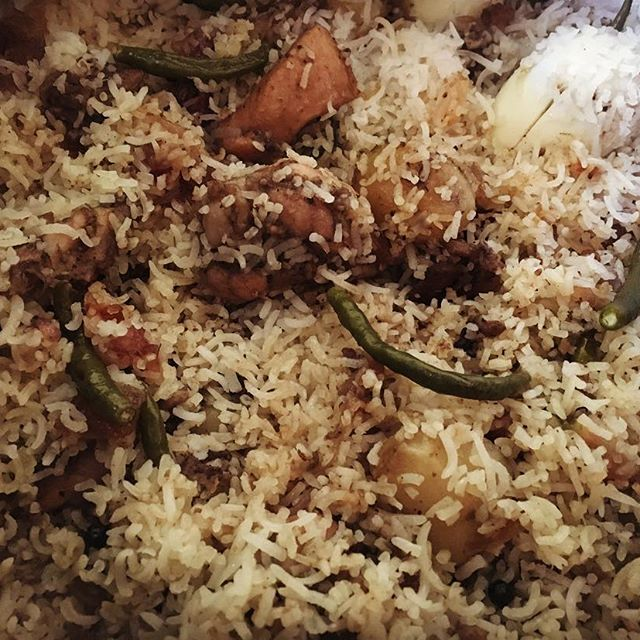tehari: (4, 4, 640, 632)
